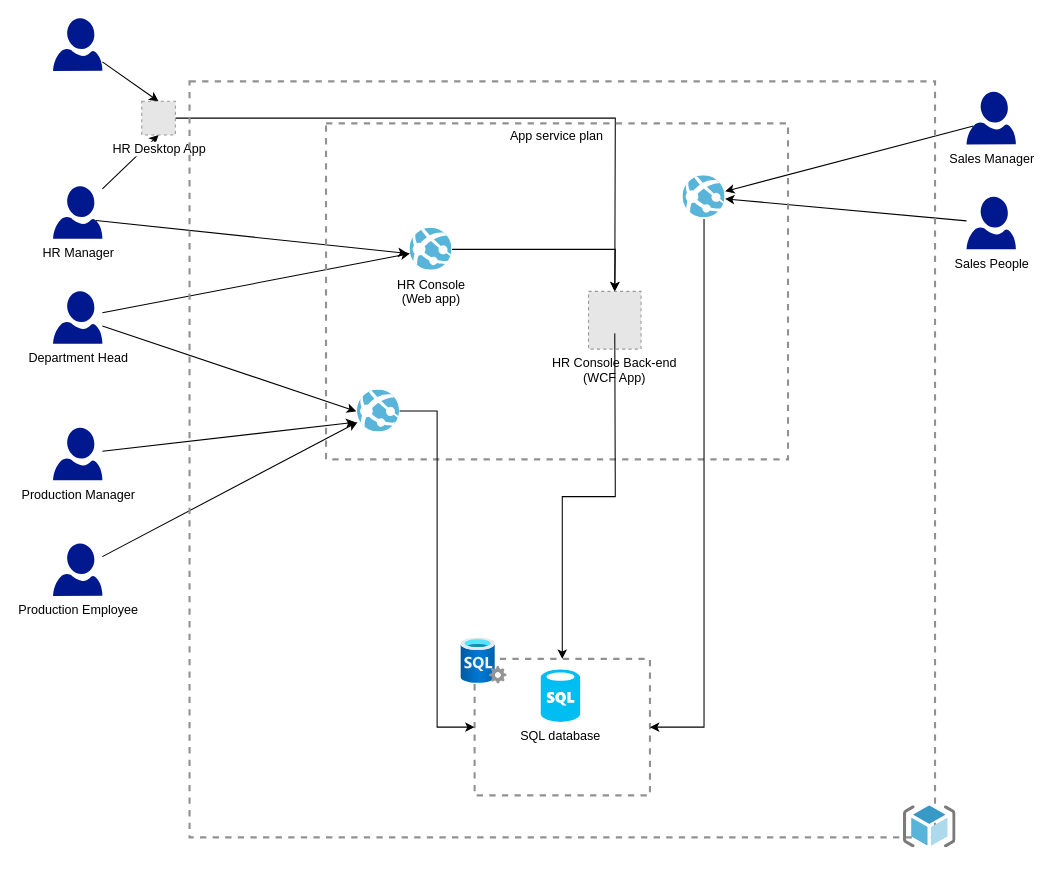
The diagram is 1052 pixels wide and 887 high, and some of its shapes have lost their labels. Grey dashed boxes stand in for pictures. Here are the shapes that lost their labels. From the top down, the centre of each, then its label:
point (77, 44): HR Specialist
point (703, 196): Sales (Web App)
point (378, 411): Production Monitor (Web App)
point (483, 660): SQL Server
point (929, 826): Resource group
